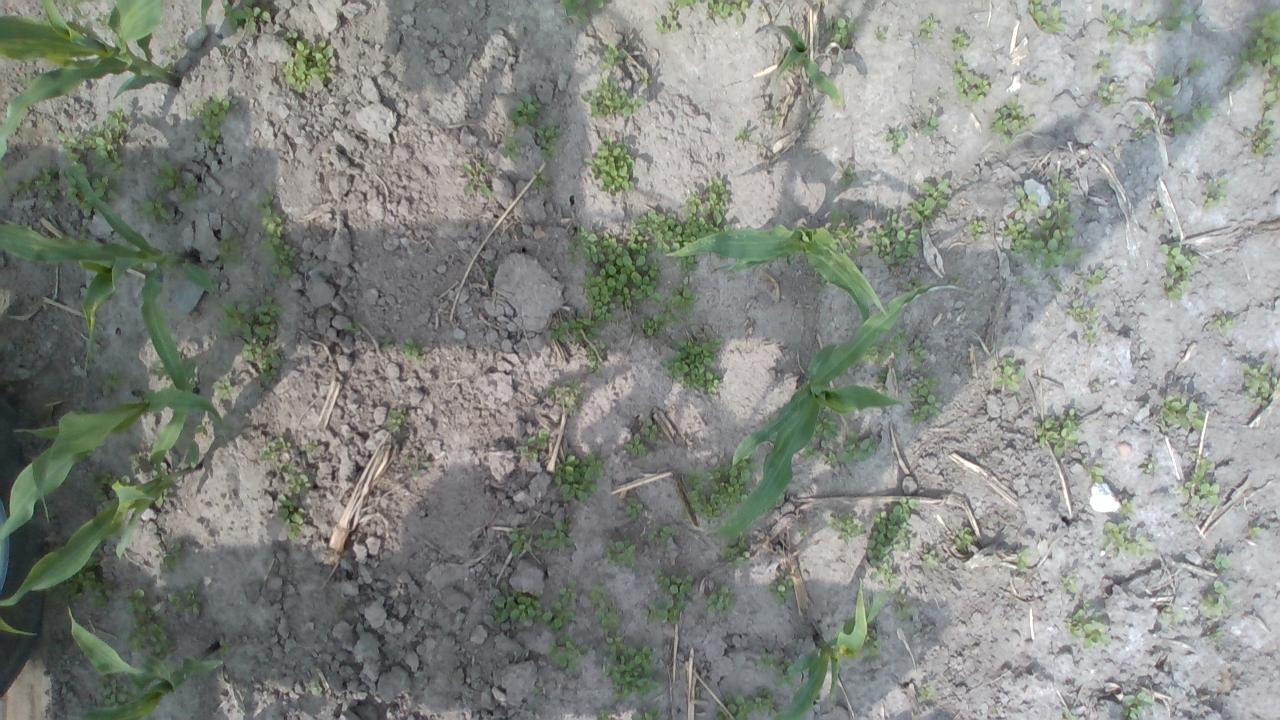Maize: (688, 281, 972, 539), (0, 147, 215, 391), (0, 410, 204, 636), (0, 0, 218, 183), (0, 384, 230, 536), (664, 225, 886, 325), (63, 601, 224, 720), (766, 577, 889, 720), (771, 22, 846, 106)
Weeds: (566, 226, 664, 324), (55, 104, 130, 217), (634, 208, 734, 274), (1002, 198, 1088, 272), (218, 296, 285, 384), (682, 454, 759, 522), (866, 495, 918, 590), (488, 578, 578, 632), (602, 630, 663, 704), (253, 181, 299, 278), (661, 328, 723, 395), (1231, 6, 1280, 84), (280, 30, 338, 93), (122, 588, 174, 657), (581, 135, 637, 198), (580, 75, 646, 122), (638, 571, 694, 624), (187, 92, 237, 150), (554, 450, 606, 503), (866, 214, 921, 264), (1174, 448, 1220, 507), (1158, 243, 1200, 302), (1064, 598, 1112, 648), (1032, 406, 1080, 456), (989, 96, 1037, 144), (717, 686, 784, 720), (906, 177, 954, 224), (65, 568, 118, 610), (1100, 519, 1155, 558), (1155, 392, 1208, 432), (85, 466, 131, 512), (823, 431, 879, 468), (800, 410, 840, 460), (1238, 361, 1280, 408), (218, 0, 272, 36), (908, 376, 946, 426), (544, 634, 593, 672), (858, 330, 912, 364), (96, 672, 146, 708), (586, 580, 622, 630), (754, 646, 796, 688), (1242, 108, 1277, 156), (828, 208, 863, 256), (952, 59, 989, 104), (665, 276, 699, 324), (1167, 100, 1215, 134), (548, 311, 602, 341), (544, 376, 585, 414), (622, 417, 658, 458), (1197, 580, 1233, 620), (1025, 0, 1067, 34), (136, 191, 174, 228), (276, 493, 306, 539), (23, 164, 61, 200), (215, 229, 248, 270), (704, 175, 730, 226), (718, 528, 752, 566), (705, 0, 749, 29), (993, 356, 1028, 392), (505, 93, 542, 127), (536, 118, 564, 162), (826, 510, 864, 542), (1162, 0, 1198, 32), (556, 0, 608, 22), (534, 520, 573, 549), (767, 571, 798, 607), (1120, 688, 1154, 720), (822, 17, 856, 49), (514, 429, 548, 461), (167, 586, 201, 617), (602, 538, 636, 569), (1100, 5, 1126, 45), (1200, 174, 1230, 208), (462, 163, 492, 196), (148, 156, 180, 186), (1145, 73, 1175, 105), (280, 463, 312, 493), (645, 522, 678, 550), (1129, 14, 1159, 44), (582, 341, 607, 377), (706, 584, 735, 615), (258, 436, 290, 464), (154, 541, 182, 571), (596, 42, 628, 68), (1065, 299, 1099, 323), (508, 524, 534, 555), (891, 588, 916, 620), (1096, 81, 1125, 106), (401, 455, 430, 480), (98, 368, 130, 390), (634, 314, 668, 334), (1048, 170, 1074, 196), (174, 180, 201, 205), (1013, 189, 1040, 214), (499, 135, 524, 162), (398, 337, 426, 361), (1081, 456, 1105, 483), (909, 339, 930, 369), (861, 630, 884, 657), (917, 14, 940, 40), (834, 162, 857, 188), (954, 524, 974, 552), (1262, 74, 1280, 104), (884, 130, 906, 154), (654, 14, 680, 34), (1212, 551, 1234, 574), (1059, 572, 1080, 596), (1092, 52, 1113, 76), (209, 378, 234, 398), (1212, 314, 1234, 336), (1084, 268, 1106, 290), (964, 218, 986, 240), (1160, 606, 1184, 626), (384, 407, 404, 431), (667, 0, 701, 14), (627, 707, 662, 720), (680, 190, 700, 212), (1014, 548, 1032, 572), (624, 496, 642, 520), (1187, 55, 1209, 74), (152, 360, 171, 382), (921, 116, 940, 138), (920, 550, 940, 570), (950, 31, 971, 50), (1132, 112, 1151, 132), (763, 108, 784, 126), (530, 169, 548, 190), (1052, 706, 1078, 720), (94, 10, 112, 30), (154, 488, 170, 509), (308, 672, 322, 695), (1140, 455, 1156, 475), (1119, 497, 1137, 514), (918, 685, 936, 702), (732, 126, 751, 142), (805, 112, 821, 131), (900, 276, 921, 290), (215, 638, 231, 656), (875, 370, 888, 392), (126, 451, 142, 468), (1178, 508, 1196, 523), (162, 42, 182, 55), (594, 707, 614, 720), (1150, 204, 1166, 220), (812, 275, 829, 290), (188, 365, 199, 388), (1081, 328, 1099, 342), (1014, 274, 1032, 288), (638, 70, 653, 86), (1026, 76, 1046, 88), (1208, 628, 1224, 642), (1050, 276, 1064, 292), (75, 400, 92, 413), (342, 320, 361, 331), (159, 61, 174, 74), (1248, 526, 1264, 538), (484, 266, 496, 280), (875, 28, 887, 42), (302, 442, 316, 452), (752, 140, 766, 150), (1090, 381, 1102, 392), (532, 683, 543, 694), (338, 602, 348, 612), (381, 339, 391, 349), (798, 528, 808, 538), (950, 273, 960, 282), (756, 6, 766, 14), (786, 63, 794, 70)
